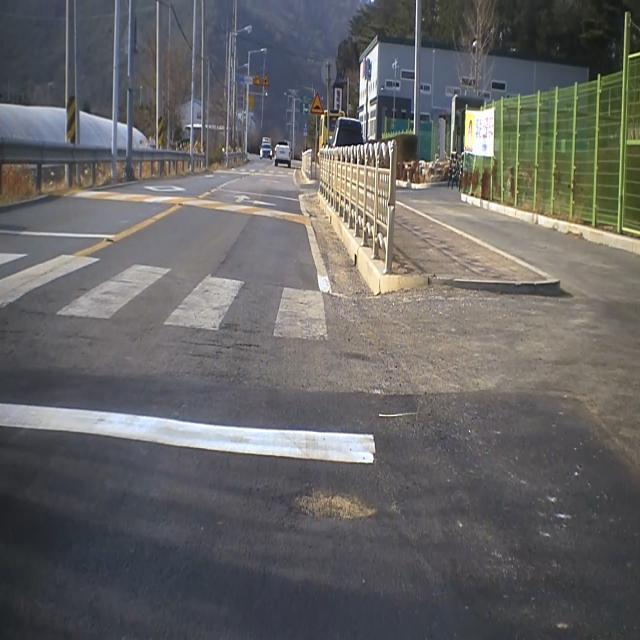pothole: (277, 478, 389, 536)
